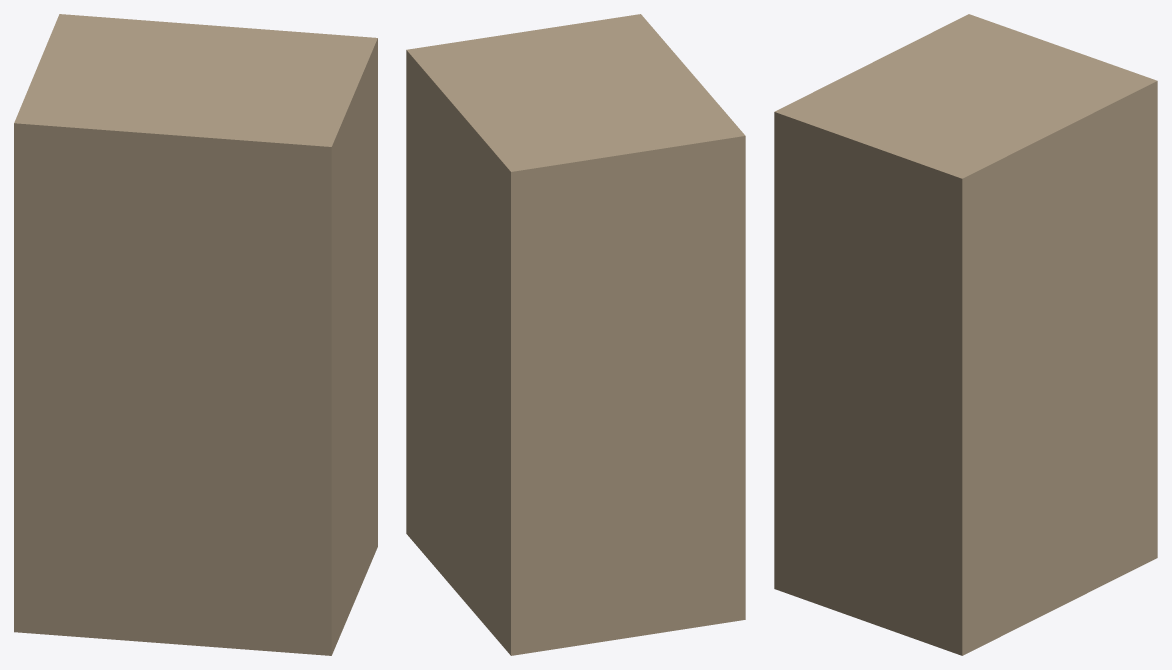
Rendered from bld_108400936.dae.
The picture shows the model from 3 angles, left to right: view 1: azimuth 30°, elevation 25°; view 2: azimuth 150°, elevation 25°; view 3: azimuth 270°, elevation 25°; orthographic projection. The views are drawn at different scales.
Visible parts, largest first — view 1: bld_108400936; view 2: bld_108400936; view 3: bld_108400936.
Boxes of the visible parts, x1=… form: bld_108400936: x1=14, y1=14, x2=377, y2=655; bld_108400936: x1=406, y1=14, x2=745, y2=655; bld_108400936: x1=774, y1=14, x2=1157, y2=655.
Bounding box in the file's own units: 5.93 × 5.82 × 8.
